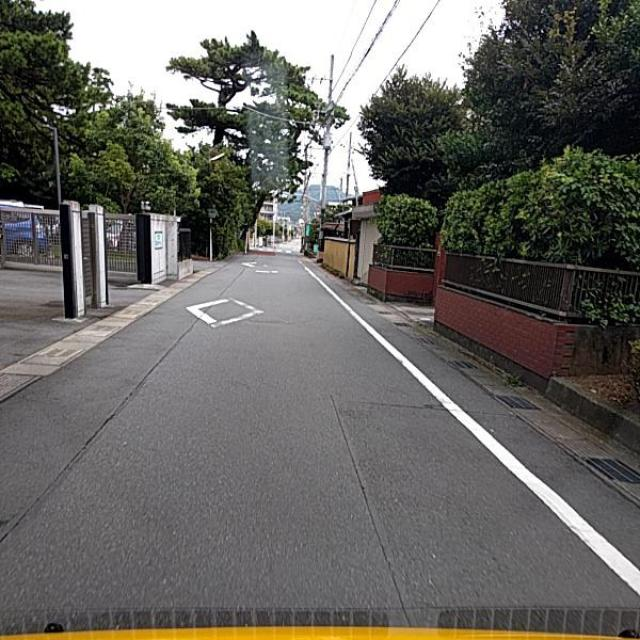Crack: (302, 359, 458, 616)
